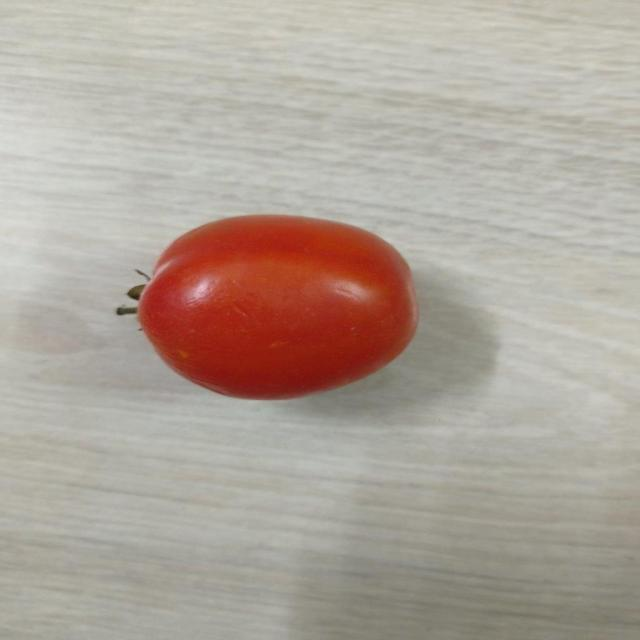Tomato: (115, 208, 432, 404)
